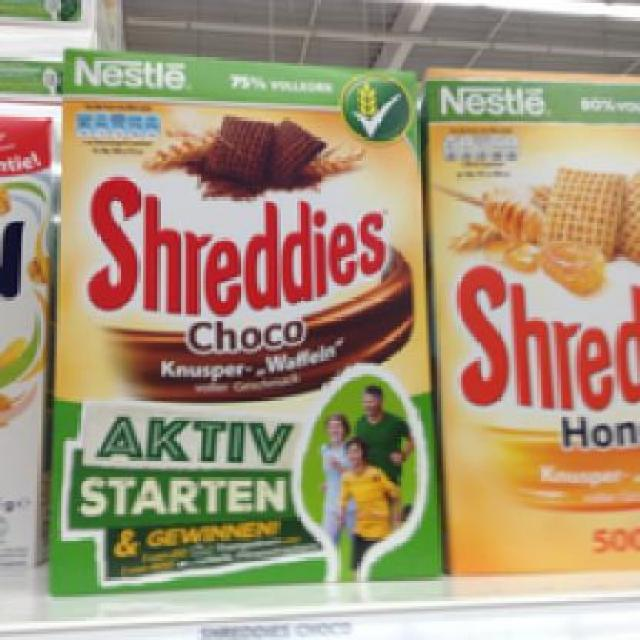Cereal: (48, 42, 444, 595), (420, 66, 637, 572)
